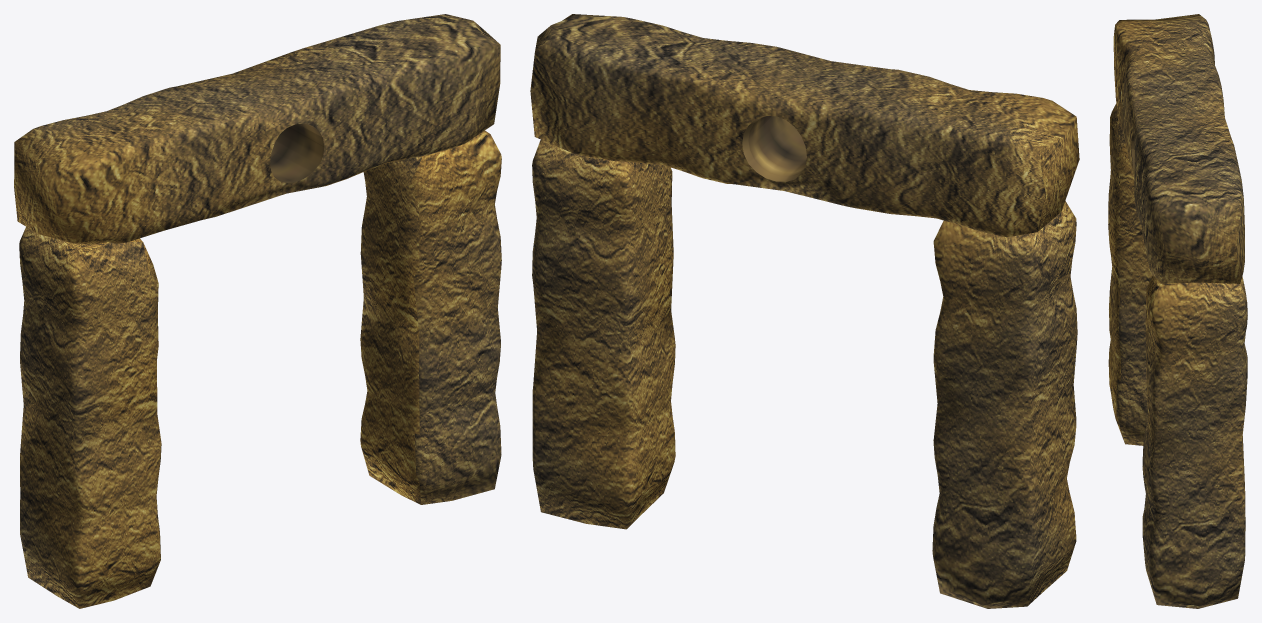
Rendered from structurefbx.fbx.
3 views of the same model, side by side, from view 1: azimuth 30°, elevation 25°; view 2: azimuth 150°, elevation 25°; view 3: azimuth 270°, elevation 25° (orthographic). The views are drawn at different scales.
Visible parts, largest first — view 1: polySurface35, polySurface34, polySurface33; view 2: polySurface35, polySurface34, polySurface33; view 3: polySurface33, polySurface35, polySurface34.
Boxes of the visible parts, x1,y1,x2,y2 form: polySurface35: [14, 14, 500, 244]; polySurface34: [19, 227, 161, 608]; polySurface33: [360, 130, 501, 504]; polySurface35: [530, 14, 1079, 237]; polySurface34: [932, 201, 1077, 608]; polySurface33: [532, 140, 675, 529]; polySurface33: [1142, 276, 1247, 608]; polySurface35: [1113, 14, 1244, 283]; polySurface34: [1108, 103, 1152, 445].
Size of the model in its own units: 40.4 by 37.24 by 11.42.
Materials: 2 (2 with a texture image).
